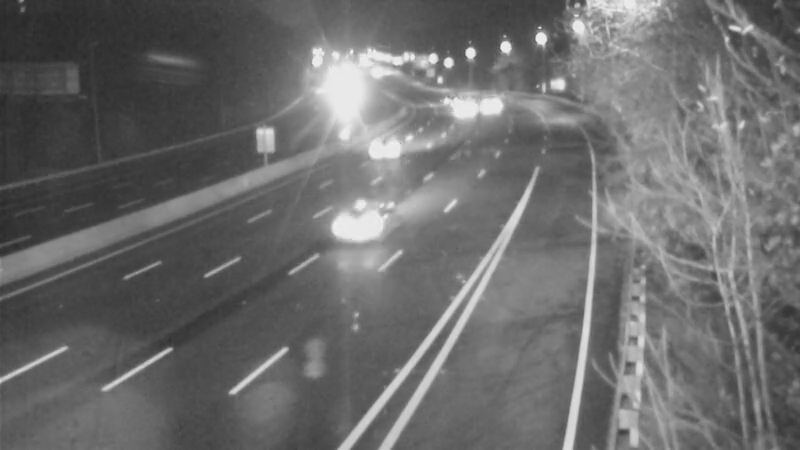vehicle: (311, 187, 391, 267), (422, 74, 472, 124), (465, 79, 515, 129), (435, 88, 485, 138), (354, 124, 404, 174)
